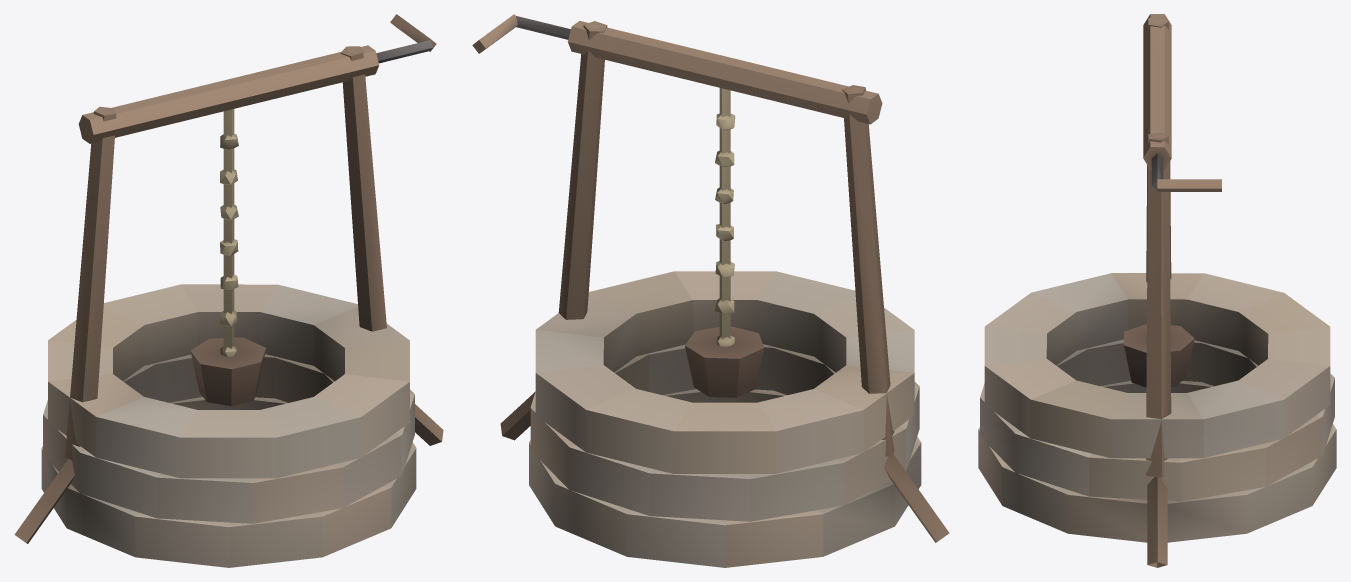
File: well_head.glb
3 views of the same model, side by side, from view 1: azimuth 30°, elevation 25°; view 2: azimuth 150°, elevation 25°; view 3: azimuth 270°, elevation 25° (orthographic). The views are drawn at different scales.
Parts seen in each view (by area): view 1: well_head; view 2: well_head; view 3: well_head.
Boxes of the visible parts, <box> form: well_head: <box>14,14,443,567</box>; well_head: <box>472,14,949,567</box>; well_head: <box>978,14,1336,567</box>.
Size of the model in its own units: 3.3 by 3.05 by 2.5.
